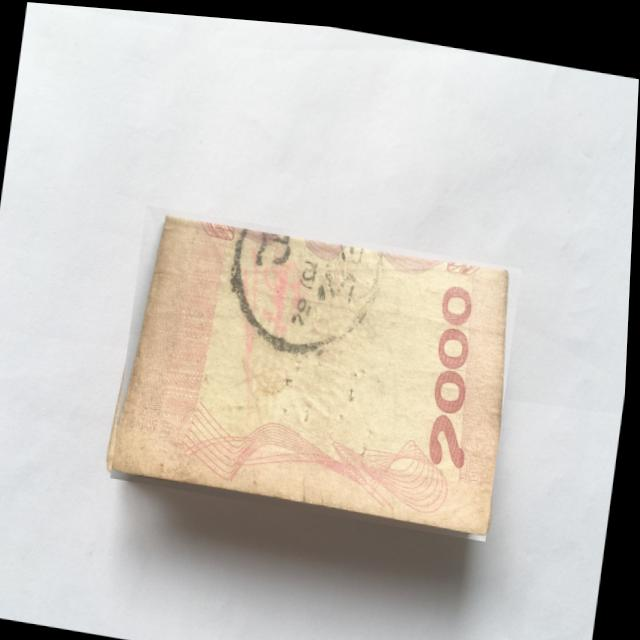Taka: (113, 201, 525, 535)
